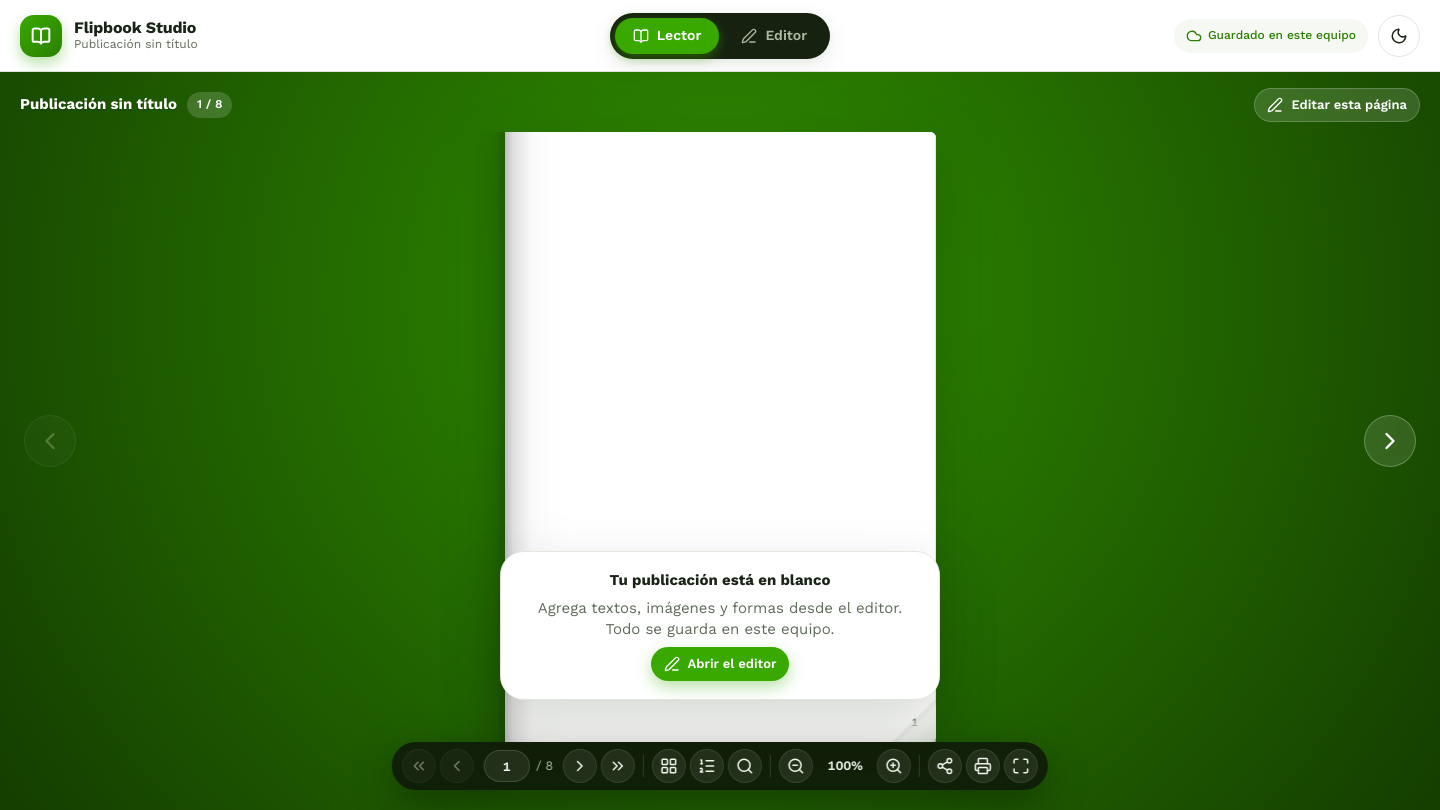
Test: integración: lector › comparte copiando el enlace cuando no hay Web Share
This screenshot has width=1440, height=810.
Click the button named "Compartir": [945, 766] box x1=928 y1=749 x2=962 y2=783
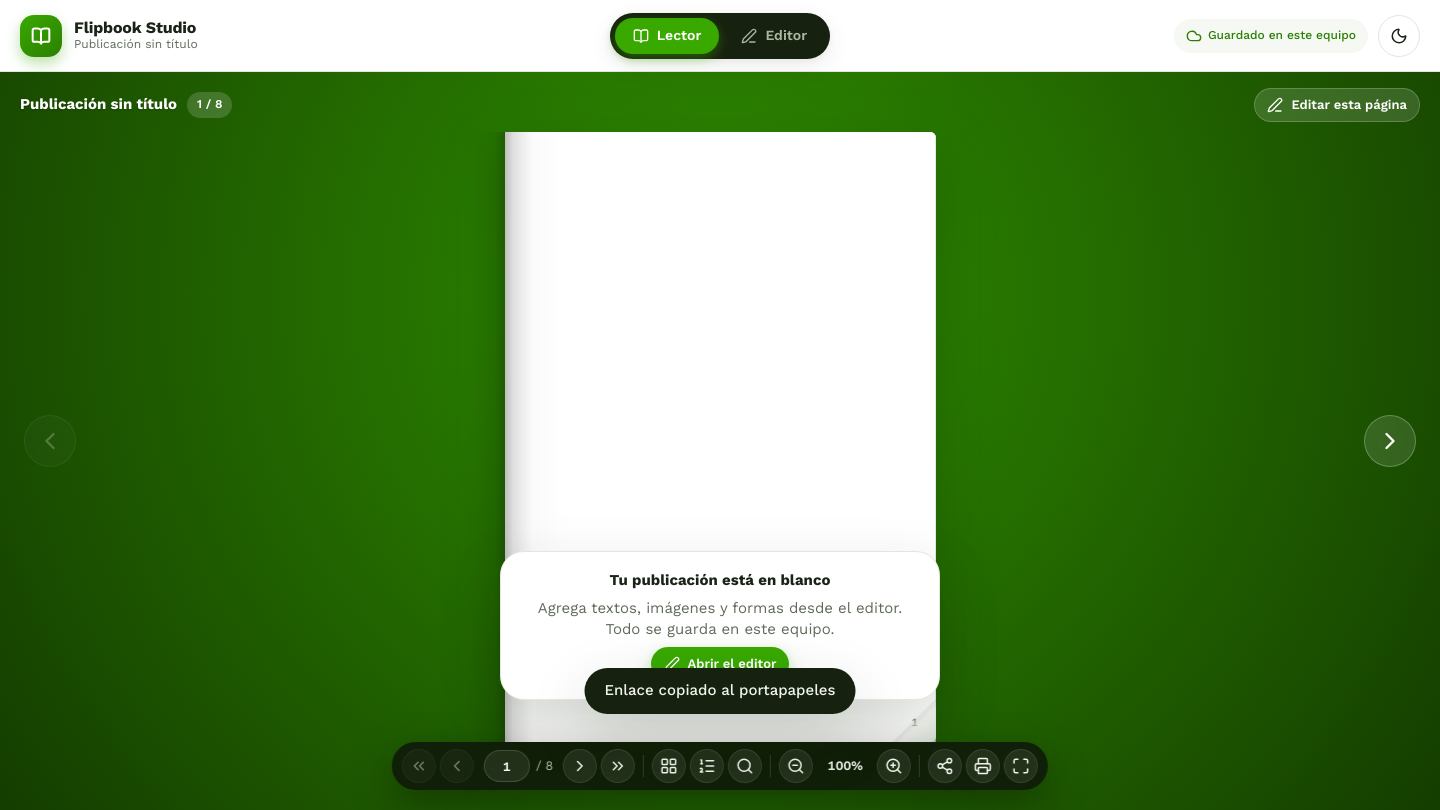
Check: the text "Enlace copiado al portapapeles" is shown, box x1=584 y1=668 x2=856 y2=714
